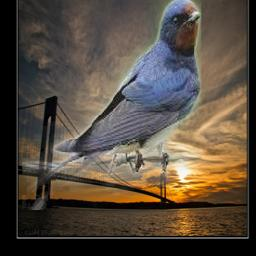Swallow: (21, 0, 200, 211)
